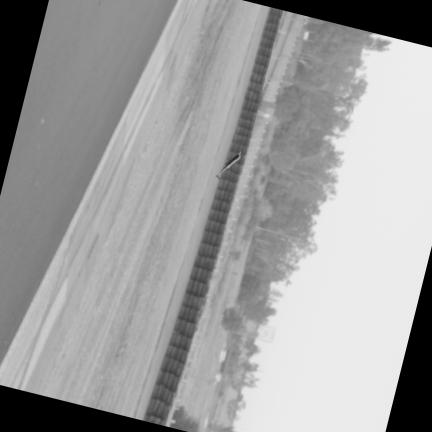Shahed: (215, 152, 241, 178)
